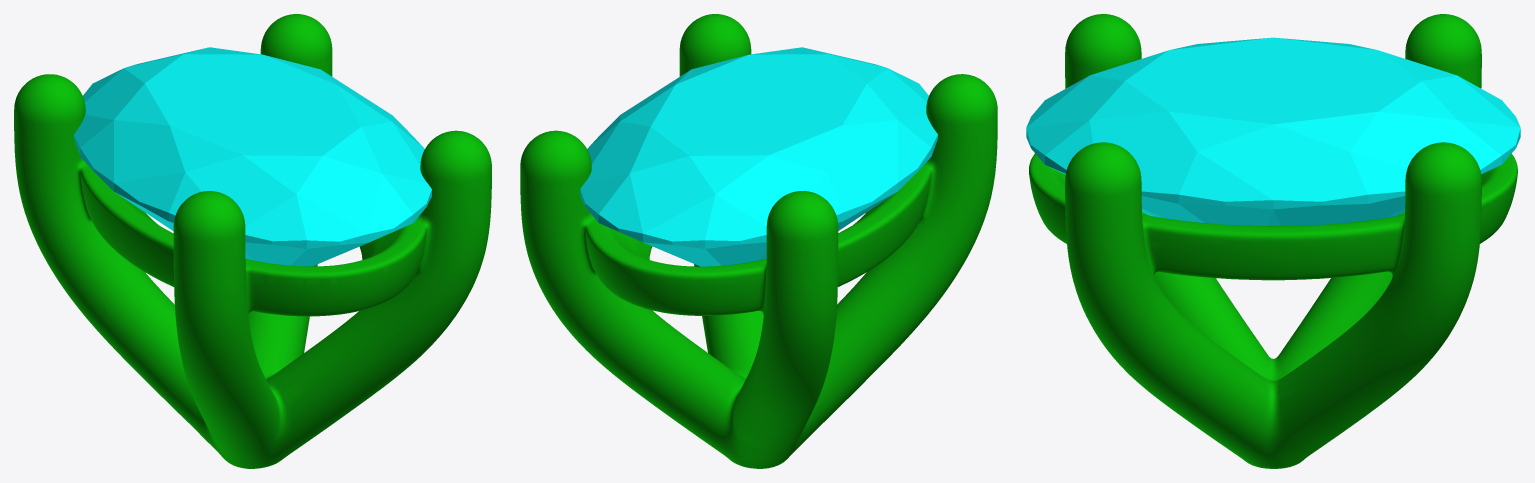
3 views of the same model, side by side, from view 1: azimuth 30°, elevation 25°; view 2: azimuth 150°, elevation 25°; view 3: azimuth 270°, elevation 25° (orthographic). The views are drawn at different scales.
Parts seen in each view (by area): view 1: Metal01, Diamond_Oval; view 2: Metal01, Diamond_Oval; view 3: Metal01, Diamond_Oval.
Boxes of the visible parts, x1=… form: Metal01: x1=14, y1=14, x2=491, y2=468; Diamond_Oval: x1=73, y1=47, x2=431, y2=266; Metal01: x1=520, y1=14, x2=997, y2=468; Diamond_Oval: x1=580, y1=47, x2=937, y2=266; Metal01: x1=1029, y1=14, x2=1517, y2=468; Diamond_Oval: x1=1026, y1=37, x2=1520, y2=225.
Bounding box in the file's own units: 5 × 5.47 × 6.5.
